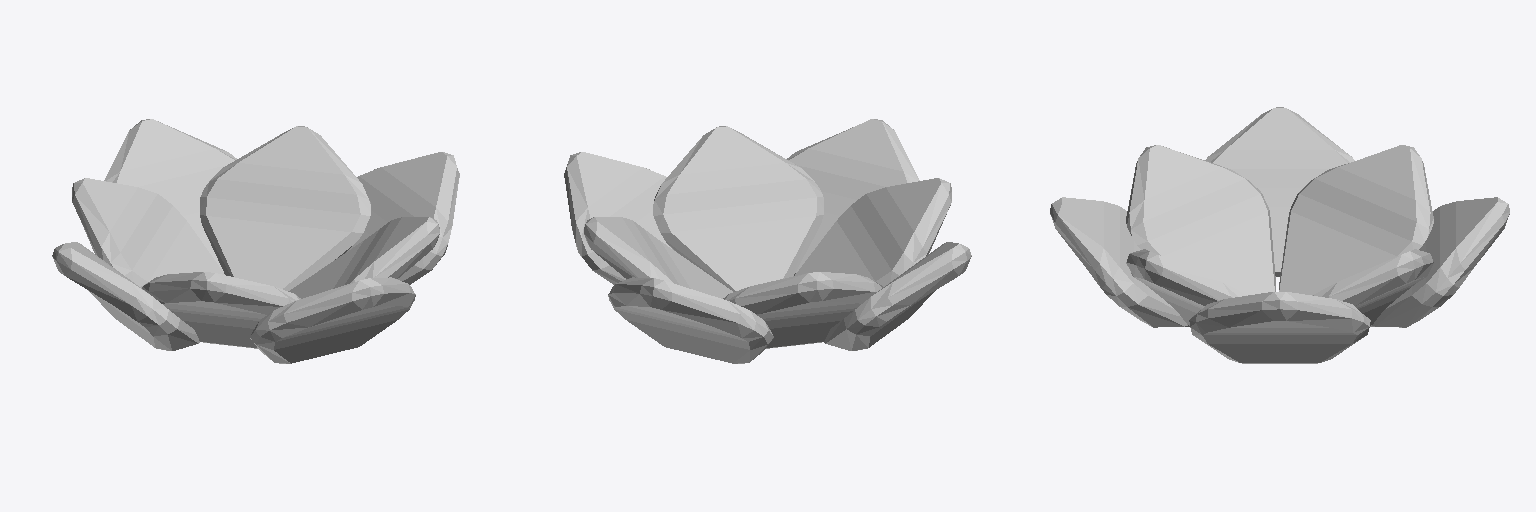
Rendered from Plant_3.obj.
3 views of the same model, side by side, from view 1: azimuth 30°, elevation 25°; view 2: azimuth 150°, elevation 25°; view 3: azimuth 270°, elevation 25° (orthographic).
Visible parts, largest first — view 1: Plant_3_Cube.517; view 2: Plant_3_Cube.517; view 3: Plant_3_Cube.517.
Part boxes in pixels (left/top/right/bottom): Plant_3_Cube.517: left=52, top=119, right=459, bottom=363; Plant_3_Cube.517: left=564, top=119, right=971, bottom=363; Plant_3_Cube.517: left=1050, top=107, right=1509, bottom=363.
Bounding box in the file's own units: 3.32 × 0.8949 × 3.32.